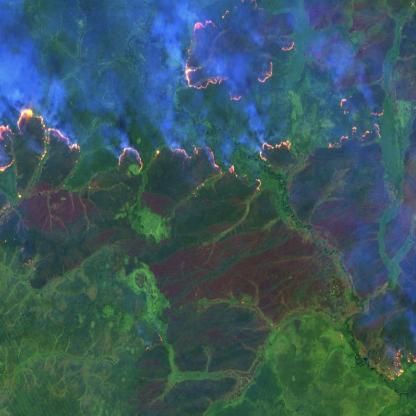fire: (111, 122, 395, 190), (180, 0, 301, 103), (0, 102, 81, 182)
